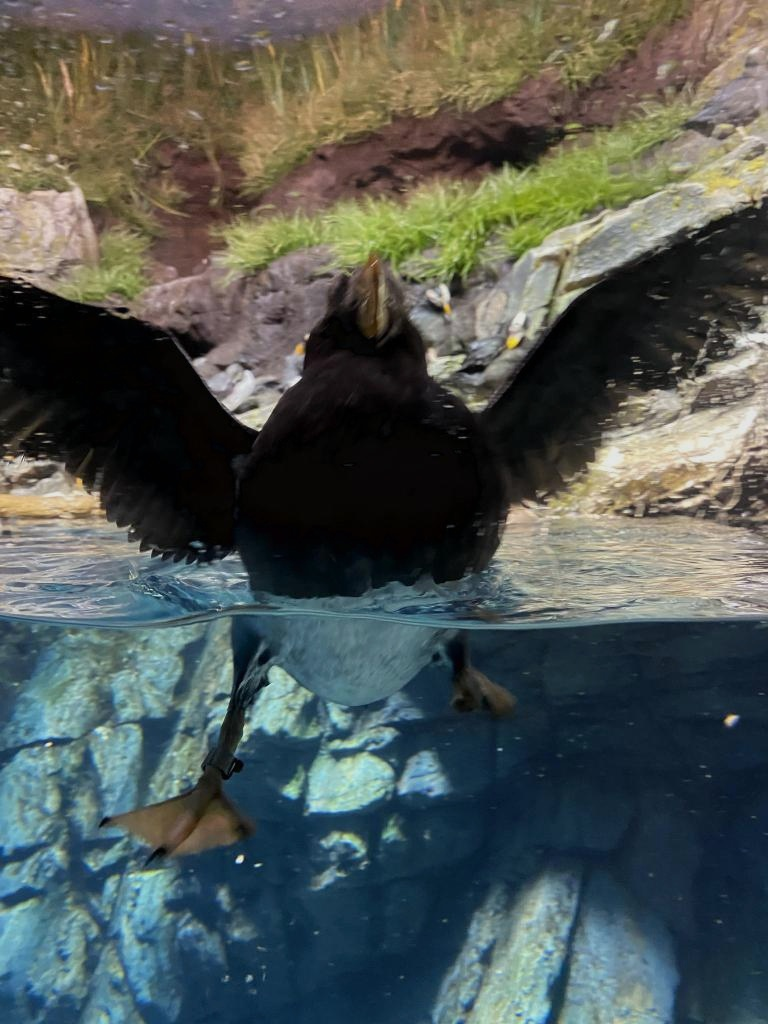puffin: (0, 205, 767, 860), (460, 301, 532, 389), (404, 272, 464, 356)
